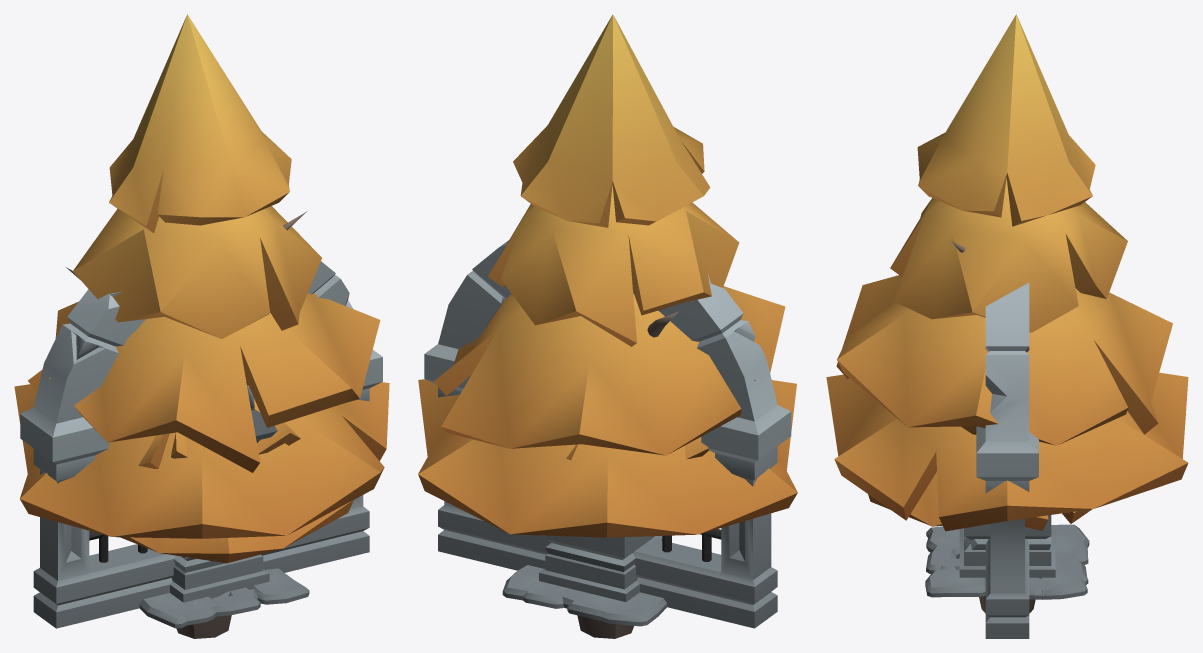
The model's file is spooky.glb.
3 renders of one model, left to right at view 1: azimuth 30°, elevation 25°; view 2: azimuth 150°, elevation 25°; view 3: azimuth 270°, elevation 25°, orthographic. The views are drawn at different scales.
Parts seen in each view (by area): view 1: tree_pine_yellow_large, arch, fence, tree_pine_yellow_medium, path_A, shrine_candles, pillar, path_C, post_lantern; view 2: tree_pine_yellow_large, arch, fence, pillar, path_A, shrine_candles, path_C; view 3: tree_pine_yellow_large, arch, path_A, path_C, tree_pine_yellow_medium, fence, shrine_candles, pillar.
Part boxes in pixels (x1,y1,x2,y2): tree_pine_yellow_large: (14, 14, 389, 638); arch: (20, 261, 382, 628); fence: (35, 388, 369, 627); tree_pine_yellow_medium: (120, 385, 353, 563); path_A: (139, 568, 309, 628); shrine_candles: (170, 555, 269, 602); pillar: (171, 554, 263, 589); path_C: (151, 569, 269, 625); post_lantern: (246, 380, 277, 442); tree_pine_yellow_large: (418, 14, 797, 638); arch: (424, 240, 791, 628); fence: (438, 387, 776, 627); pillar: (545, 292, 654, 589); path_A: (502, 570, 667, 626); shrine_candles: (539, 536, 662, 601); path_C: (516, 565, 646, 620); tree_pine_yellow_large: (826, 14, 1188, 613); arch: (976, 283, 1038, 638); path_A: (925, 524, 1089, 599); path_C: (926, 527, 1088, 599); tree_pine_yellow_medium: (868, 426, 1091, 530); fence: (985, 481, 1029, 638); shrine_candles: (959, 529, 1055, 578); pillar: (964, 515, 1051, 565).
Bounding box in the file's own units: 4.76 × 7.48 × 4.15.
1 material, 1 textured.
